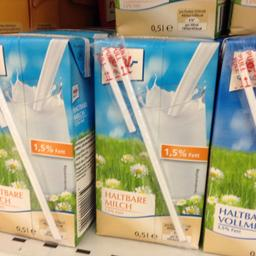milk: (89, 38, 207, 255), (0, 31, 96, 247), (204, 36, 254, 252)
